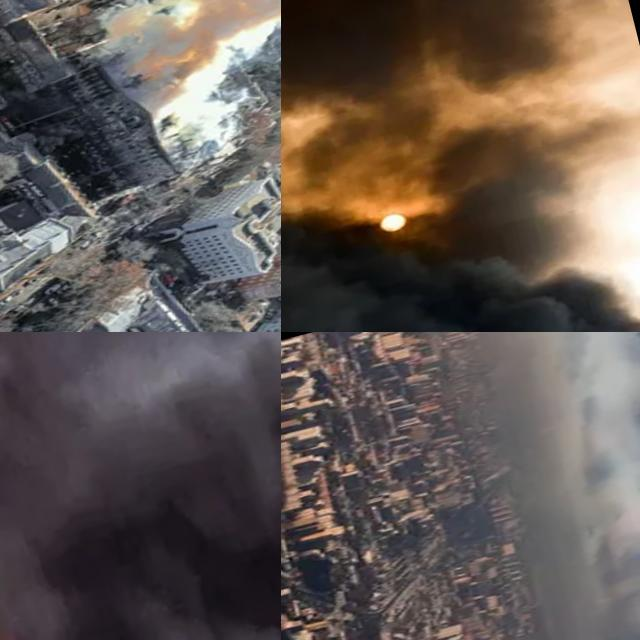smoke: (281, 0, 640, 274), (0, 332, 281, 640), (281, 120, 640, 332), (67, 0, 281, 161), (494, 446, 640, 640)
